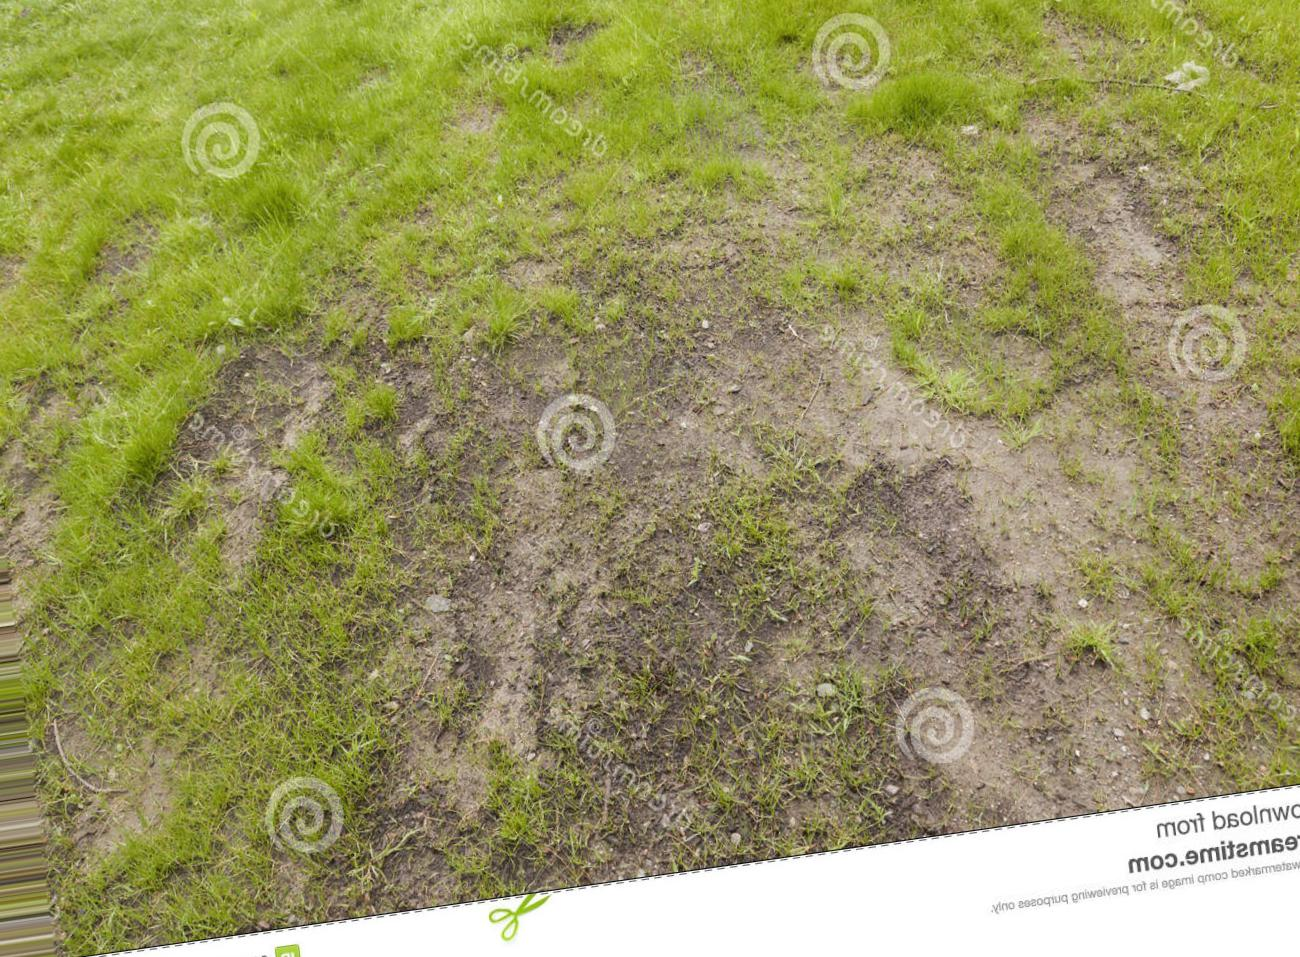patch: (410, 486, 755, 678), (783, 487, 1099, 672), (663, 313, 979, 474), (187, 367, 365, 573), (380, 707, 601, 859), (1007, 293, 1127, 486), (989, 707, 1176, 795)
